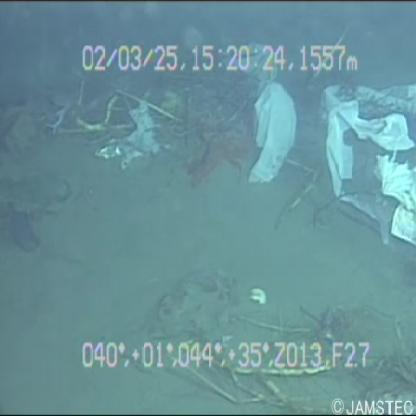Rác: (318, 67, 416, 248), (211, 24, 300, 184)
